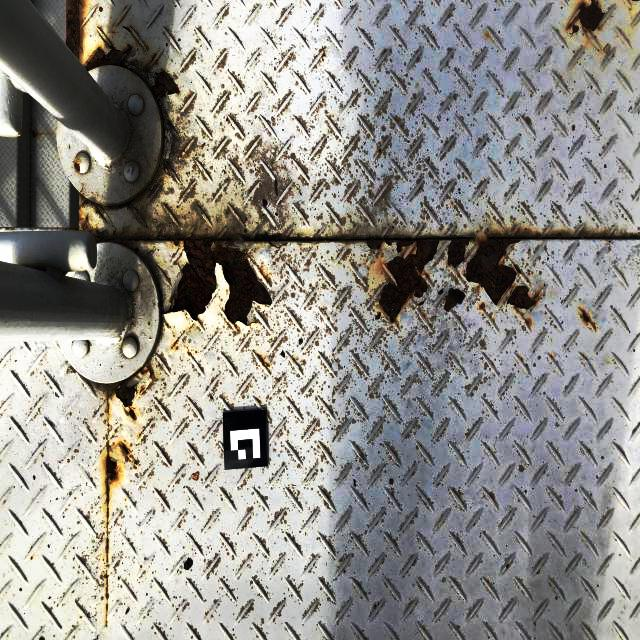Corrosion: (163, 240, 273, 326), (367, 239, 472, 325), (465, 238, 523, 307), (83, 43, 132, 71), (578, 0, 606, 33), (66, 0, 81, 61), (151, 70, 179, 101), (507, 285, 540, 310), (114, 383, 135, 407), (105, 456, 118, 483), (80, 221, 91, 232), (582, 311, 591, 323), (571, 24, 580, 36), (121, 443, 130, 455), (74, 162, 81, 172), (129, 411, 135, 419), (31, 131, 36, 137)
